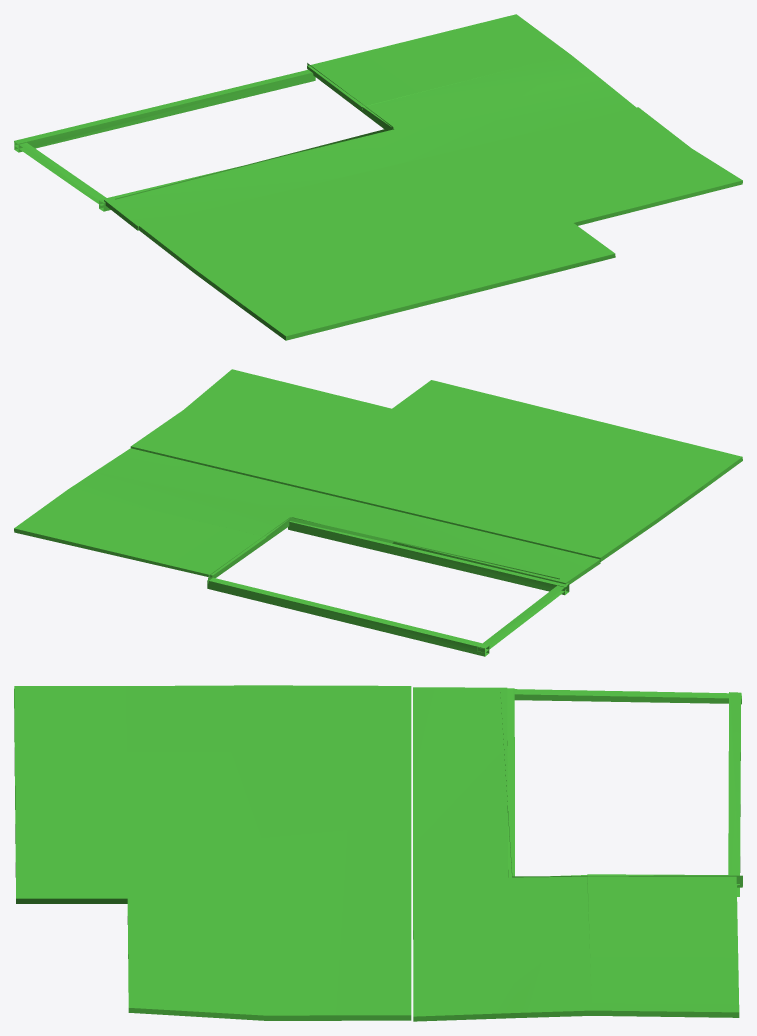
Rendered from SM_SmallLodge_Floor.fbx.
3 views of the same model, one above another, from view 1: azimuth 30°, elevation 25°; view 2: azimuth 150°, elevation 25°; view 3: azimuth 270°, elevation 25° (orthographic). The views are drawn at different scales.
Visible parts, largest first — view 1: SM_ST_SmallLodgeFloor02.mo, BasementBorder; view 2: SM_ST_SmallLodgeFloor02.mo, BasementBorder; view 3: SM_ST_SmallLodgeFloor02.mo, BasementBorder.
Part boxes in pixels (bbox=[...]): SM_ST_SmallLodgeFloor02.mo: bbox=[104, 14, 742, 340]; BasementBorder: bbox=[14, 63, 393, 211]; SM_ST_SmallLodgeFloor02.mo: bbox=[14, 369, 742, 586]; BasementBorder: bbox=[207, 517, 569, 656]; SM_ST_SmallLodgeFloor02.mo: bbox=[14, 685, 739, 1021]; BasementBorder: bbox=[500, 688, 742, 896].
Size of the model in its own units: 971 by 915 by 29.4.
